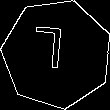L_S: (39, 27, 75, 80)
